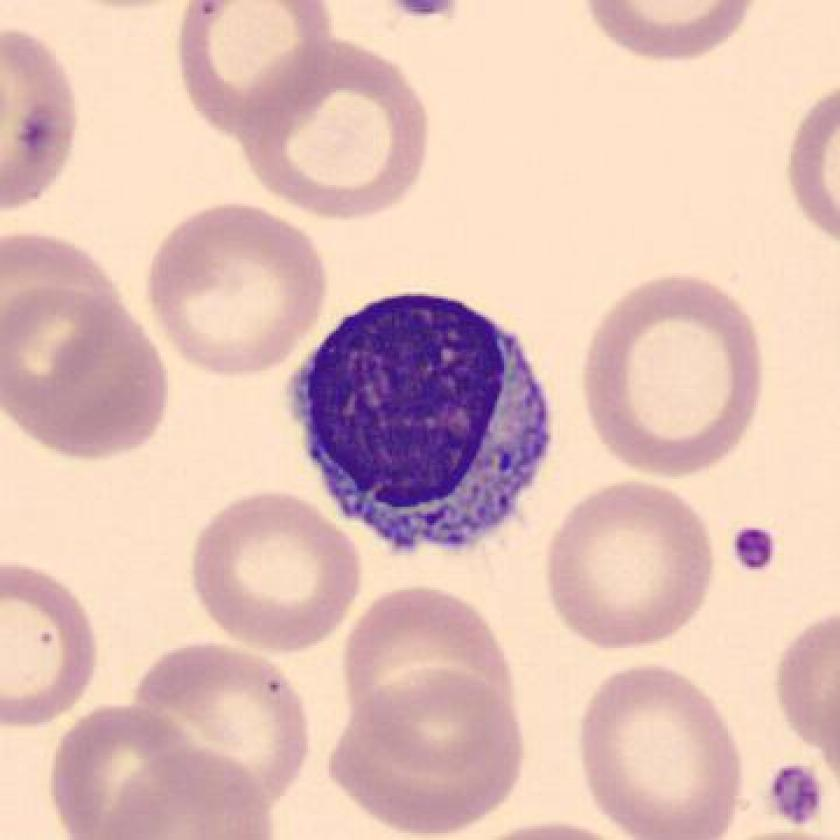lymphocyte: (274, 279, 573, 566)
platelets: (760, 764, 834, 830), (732, 526, 781, 581)
